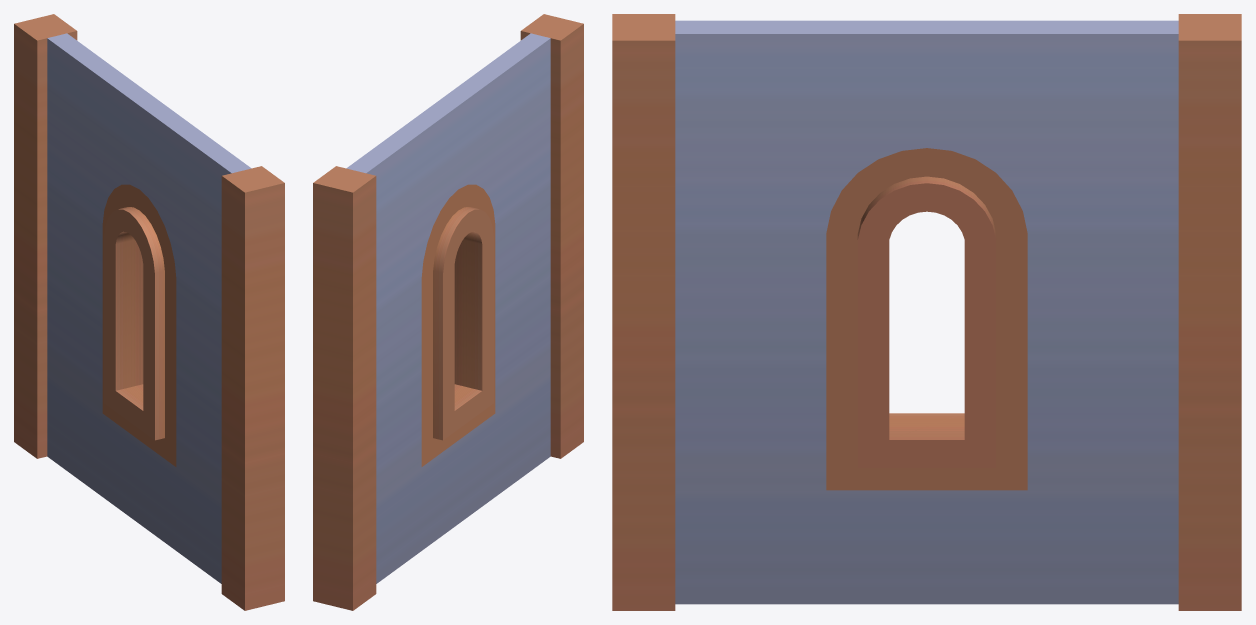
File: wall-window-round.glb
The picture shows the model from 3 angles, left to right: view 1: azimuth 30°, elevation 25°; view 2: azimuth 150°, elevation 25°; view 3: azimuth 270°, elevation 25°; orthographic projection. The views are drawn at different scales.
Parts seen in each view (by area): view 1: wall-window-round; view 2: wall-window-round; view 3: wall-window-round.
Boxes of the visible parts, bbox=[...] form: wall-window-round: bbox=[14, 14, 284, 610]; wall-window-round: bbox=[313, 14, 583, 610]; wall-window-round: bbox=[612, 14, 1241, 610].
Bounding box in the file's own units: 0.1 × 1 × 1.
Materials: 1 (1 with a texture image).
